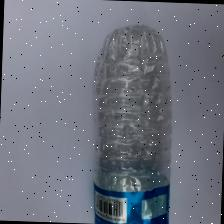plastic: (91, 24, 171, 224)
